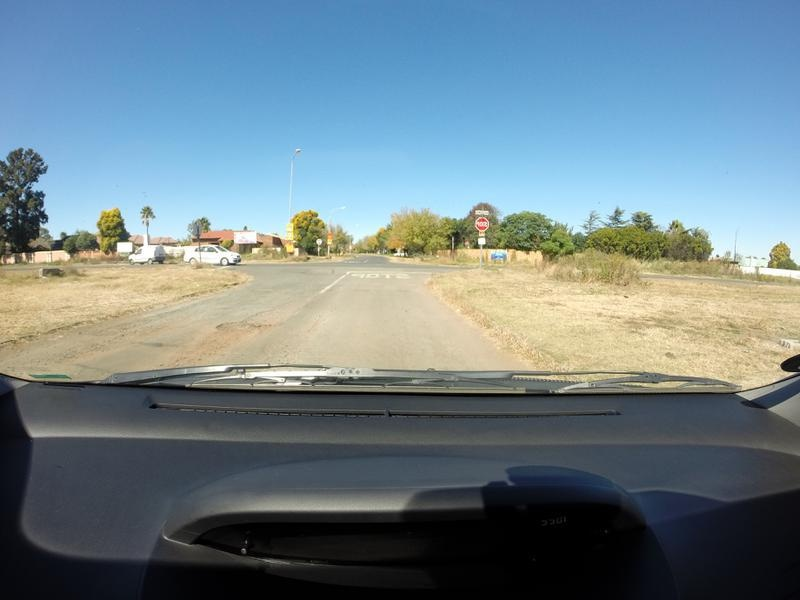pothole: (81, 325, 158, 348), (208, 316, 276, 333), (168, 347, 226, 361)
